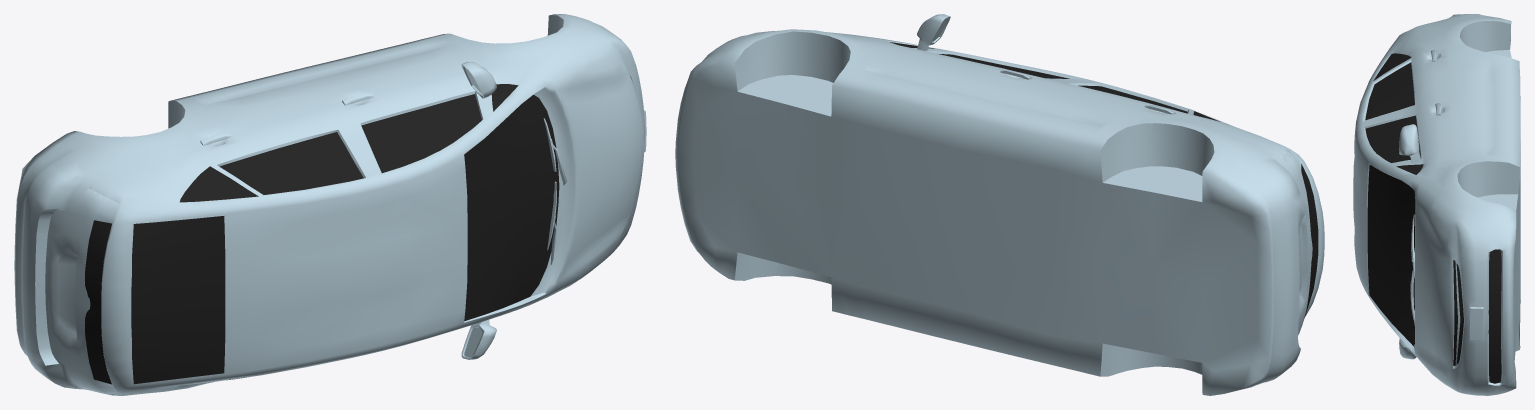
File: chassis.glb
3 views of the same model, side by side, from view 1: azimuth 30°, elevation 25°; view 2: azimuth 150°, elevation 25°; view 3: azimuth 270°, elevation 25° (orthographic). The views are drawn at different scales.
Parts seen in each view (by area): view 1: shadeWhite_001, shadeBlack_001; view 2: shadeWhite_001, shadeBlack_001; view 3: shadeWhite_001, shadeBlack_001.
Boxes of the visible parts, box(x1,y1,x2,y2) form: shadeWhite_001: box(14, 14, 646, 395); shadeBlack_001: box(84, 84, 559, 384); shadeWhite_001: box(675, 14, 1324, 395); shadeBlack_001: box(890, 42, 1318, 324); shadeWhite_001: box(1353, 14, 1520, 395); shadeBlack_001: box(1365, 53, 1501, 383).
Size of the model in its own units: 44.08 by 20.13 by 13.14.
